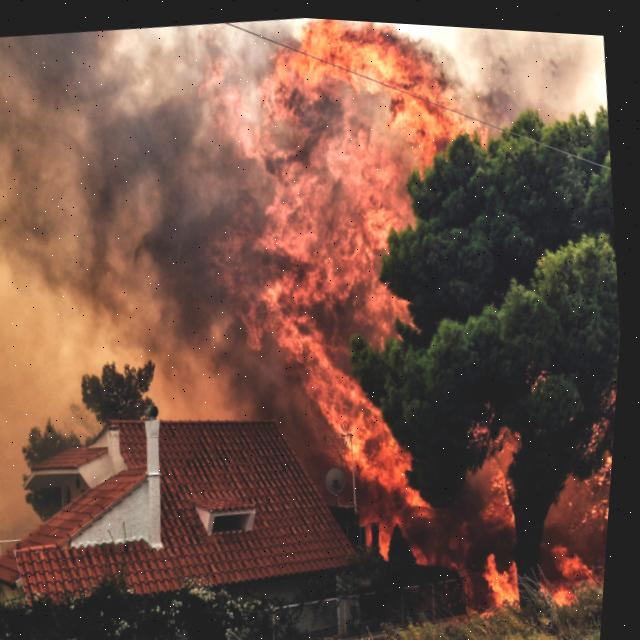fire: (207, 15, 547, 605)
smoke: (0, 28, 303, 530), (471, 22, 603, 111)
